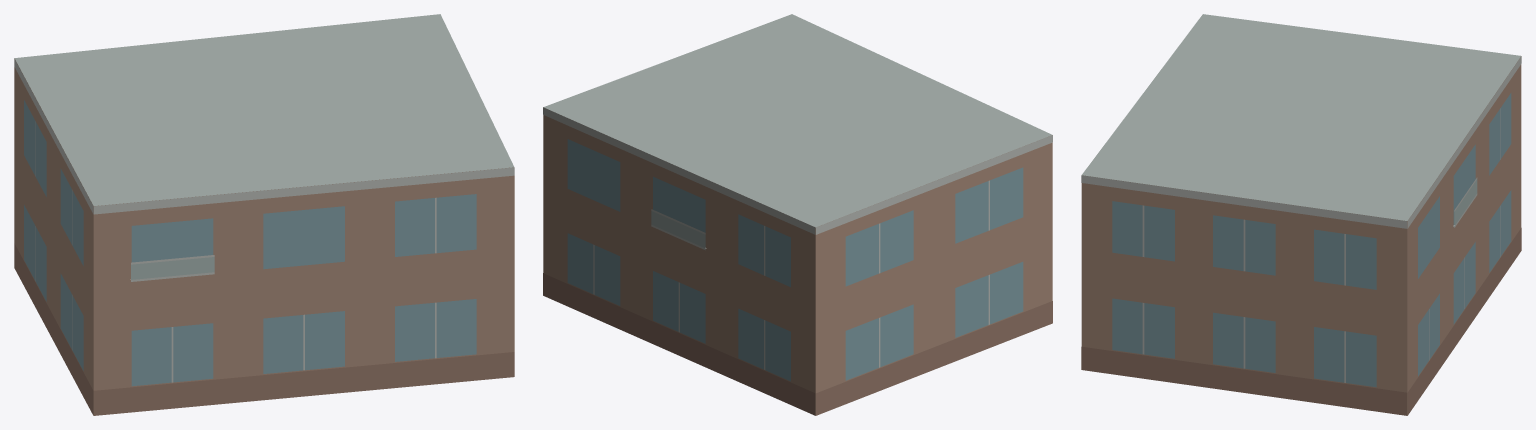
File: survey-upis-32869321.glb
3 renders of one model, left to right at view 1: azimuth 30°, elevation 25°; view 2: azimuth 150°, elevation 25°; view 3: azimuth 270°, elevation 25°, orthographic. The views are drawn at different scales.
Visible parts, largest first — view 1: survey-upis-32869321.tmp; view 2: survey-upis-32869321.tmp; view 3: survey-upis-32869321.tmp.
Boxes of the visible parts, <box> form: survey-upis-32869321.tmp: <box>14,14,514,415</box>; survey-upis-32869321.tmp: <box>543,14,1052,415</box>; survey-upis-32869321.tmp: <box>1081,14,1521,415</box>.
Bounding box in the file's own units: 13.92 × 6.1 × 12.5.
